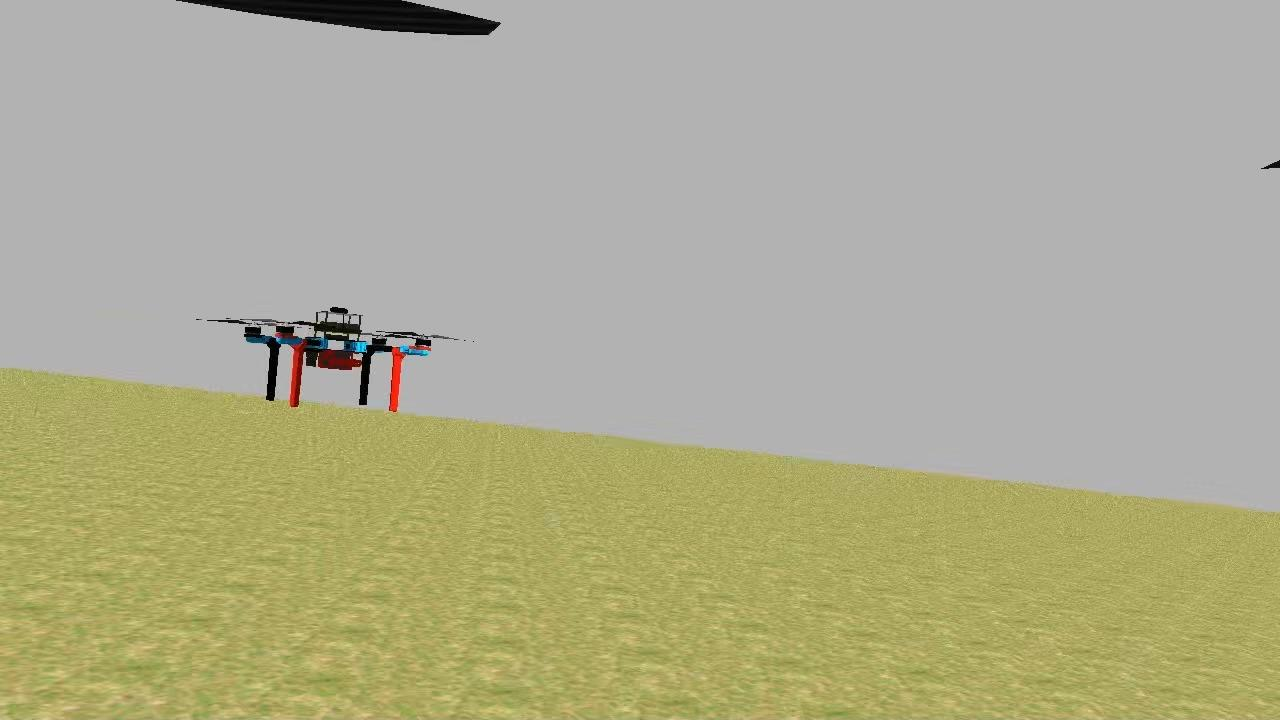UAV: (236, 298, 440, 418)
